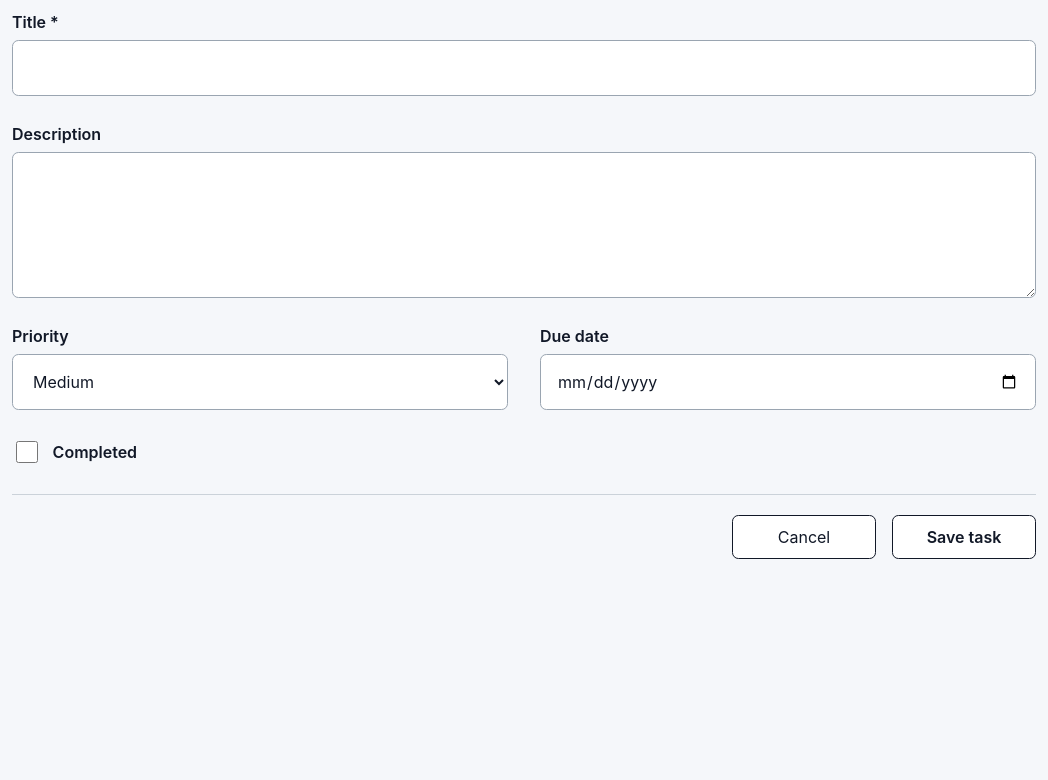
Test: TaskForm › does not submit invalid data, focuses the first invalid field, and clears its corrected error
Click the button "Save task": (964, 537) [892, 515, 1036, 559]
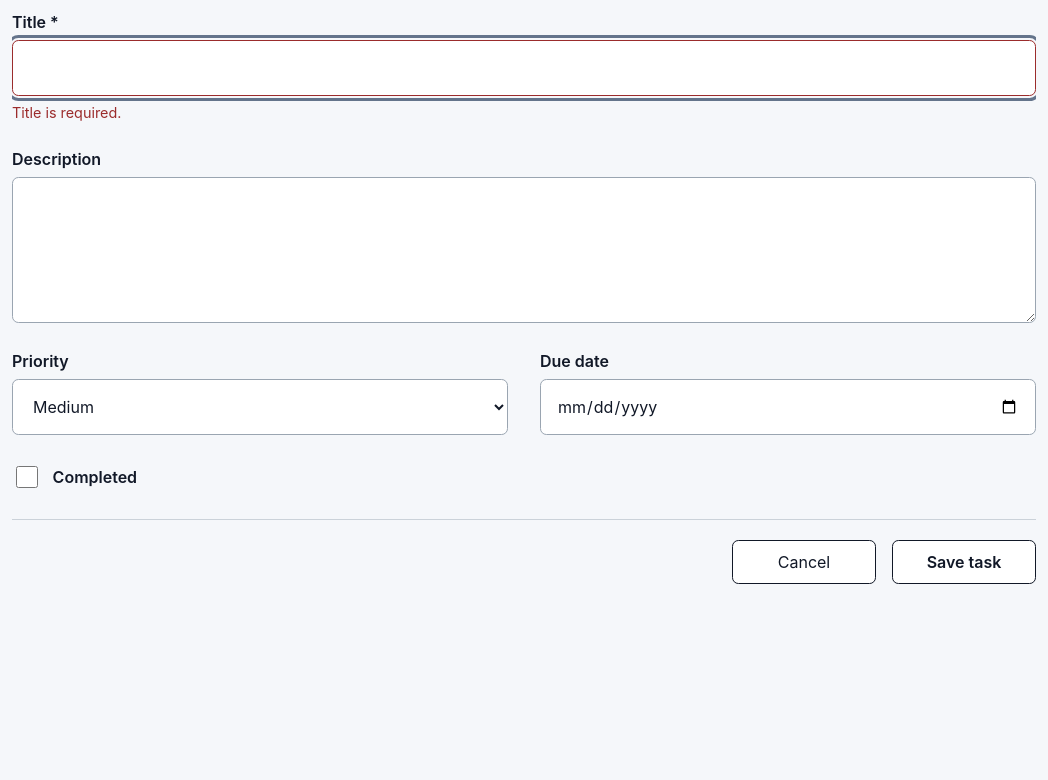
Check: the text "Title is required." is shown, box [12, 104, 121, 121]
In the field labelled "Title *": (524, 68) [12, 40, 1036, 96], type "Corrected title"
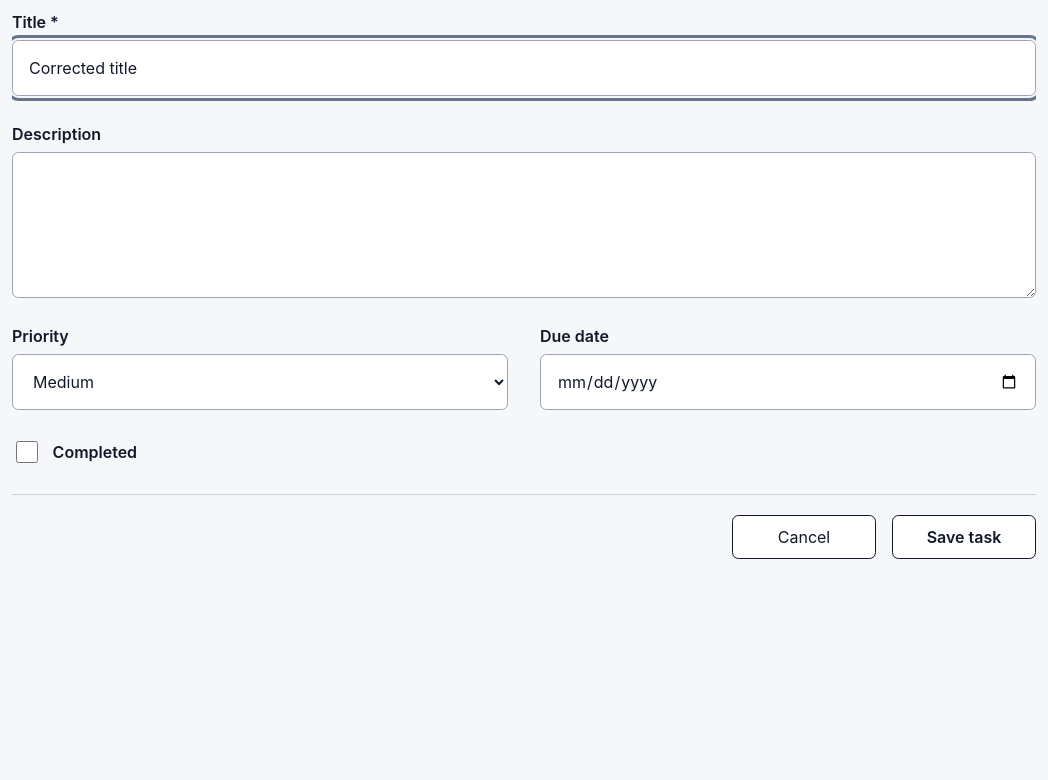
Check: the text "Title is required." is gone
